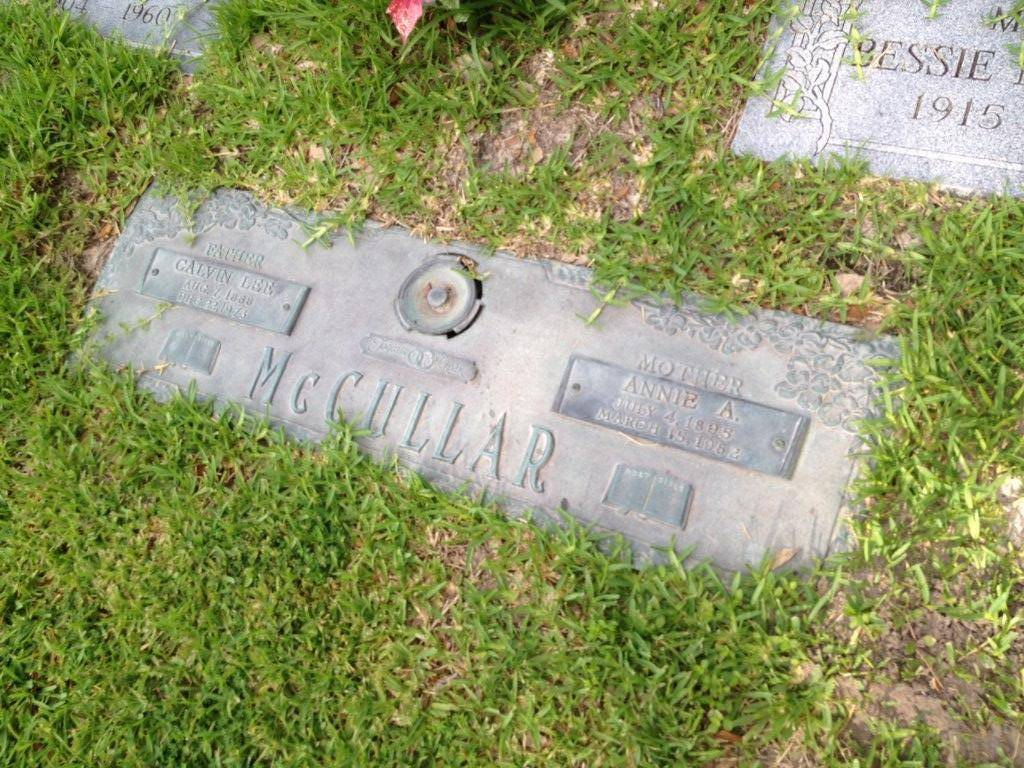flat: (41, 154, 905, 654)
